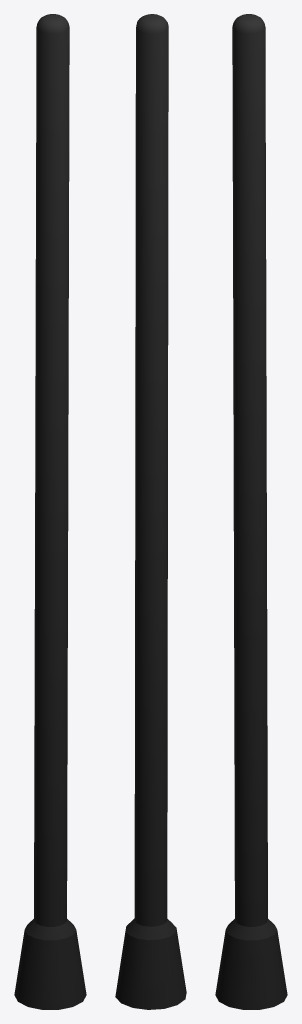
File: Traffic_Light_Pole.glb
The picture shows the model from 3 angles, left to right: view 1: azimuth 90°, elevation 25°; view 2: azimuth 150°, elevation 25°; view 3: azimuth 270°, elevation 25°; orthographic projection.
Parts seen in each view (by area): view 1: traffic_light_pole; view 2: traffic_light_pole; view 3: traffic_light_pole.
Boxes of the visible parts, <box> form: traffic_light_pole: <box>14,14,86,1009</box>; traffic_light_pole: <box>115,14,186,1009</box>; traffic_light_pole: <box>215,14,287,1009</box>.
Bounding box in the file's own units: 0.2939 × 4.5 × 0.3015.
1 material, 1 textured.
